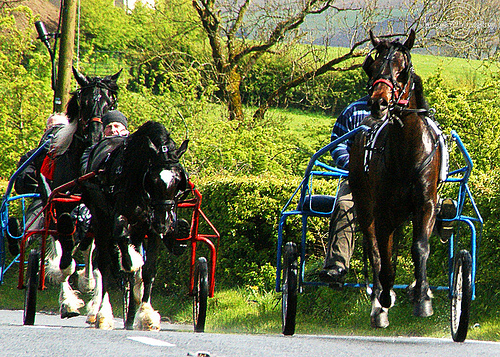horse: (347, 27, 446, 331), (78, 119, 188, 331), (43, 65, 125, 319)
